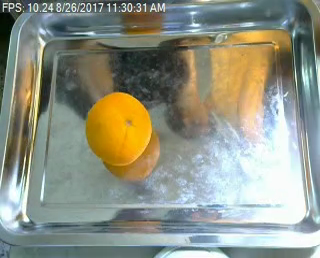Orange: (86, 91, 151, 165)
